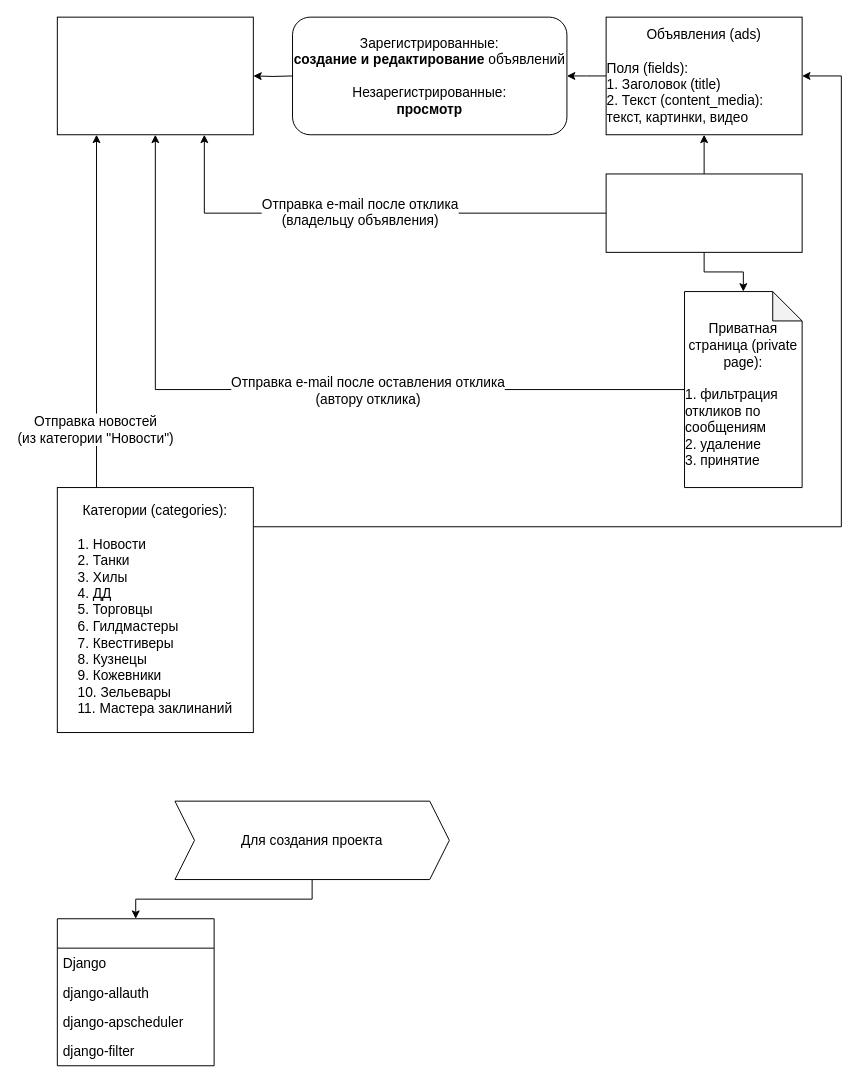
This 866x1083 diagram has some shape labels left out. The shapes that lost their labels are listed below. From the top down, each one's box as (x1, y1, x2, y2) in pixels, then its label:
(56, 16, 253, 135): Пользователи (Users) Поля (fields): 1. Имя 2. e-mail
(605, 173, 802, 252): Отклики (responses) Только текст
(56, 918, 214, 1066): Пакеты
